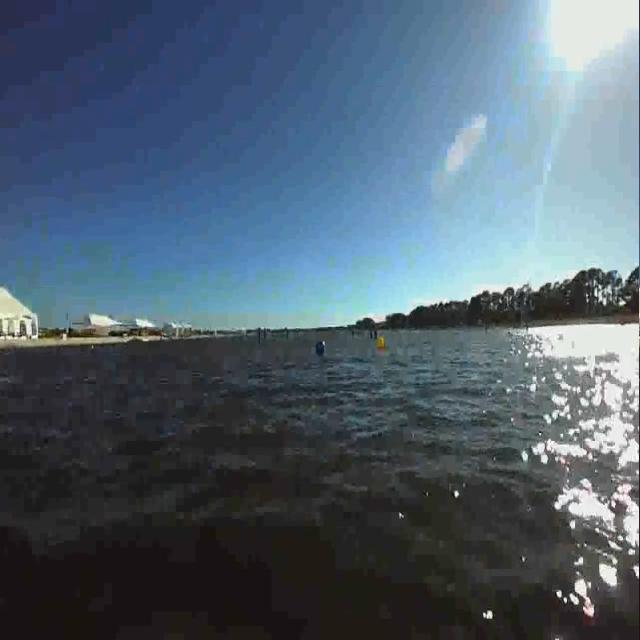blue-buoy: (315, 341, 326, 360)
yellow-buoy: (377, 336, 387, 351)
